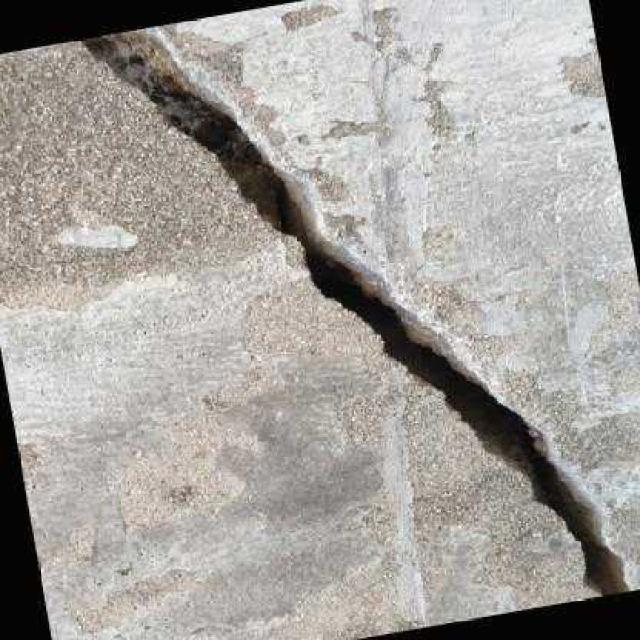D00: (75, 27, 633, 596)
